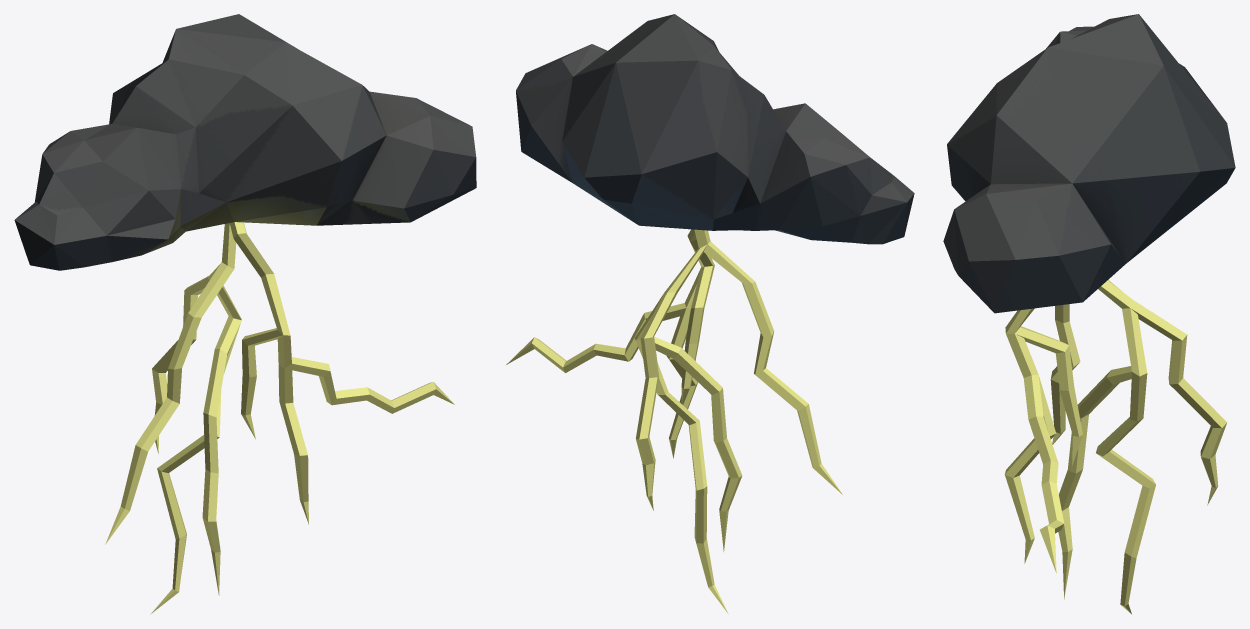
Rendered from PUSHILIN_lightning_bolt.gltf.
3 views of the same model, side by side, from view 1: azimuth 30°, elevation 25°; view 2: azimuth 150°, elevation 25°; view 3: azimuth 270°, elevation 25° (orthographic). The views are drawn at different scales.
Visible parts, largest first — view 1: node-0; view 2: node-0; view 3: node-0.
Part boxes in pixels (x1,y1,x2,y2): node-0: [14, 14, 476, 614]; node-0: [506, 14, 914, 613]; node-0: [943, 14, 1235, 614].
Bounding box in the file's own units: 2.29 × 2.93 × 1.26.
1 material, 1 textured.
